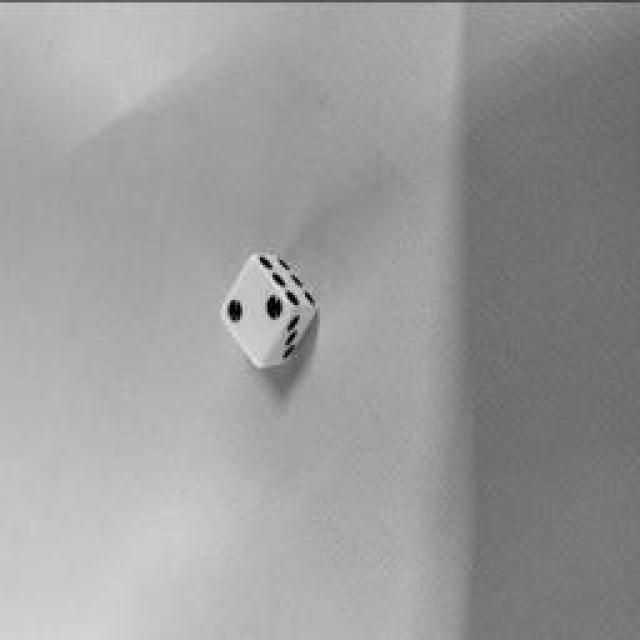dice_2: (219, 256, 291, 366)
